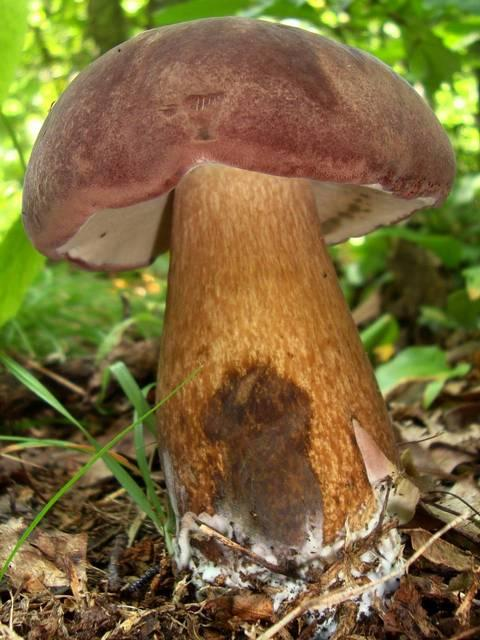poisonous_mushroom: (19, 14, 457, 600)
